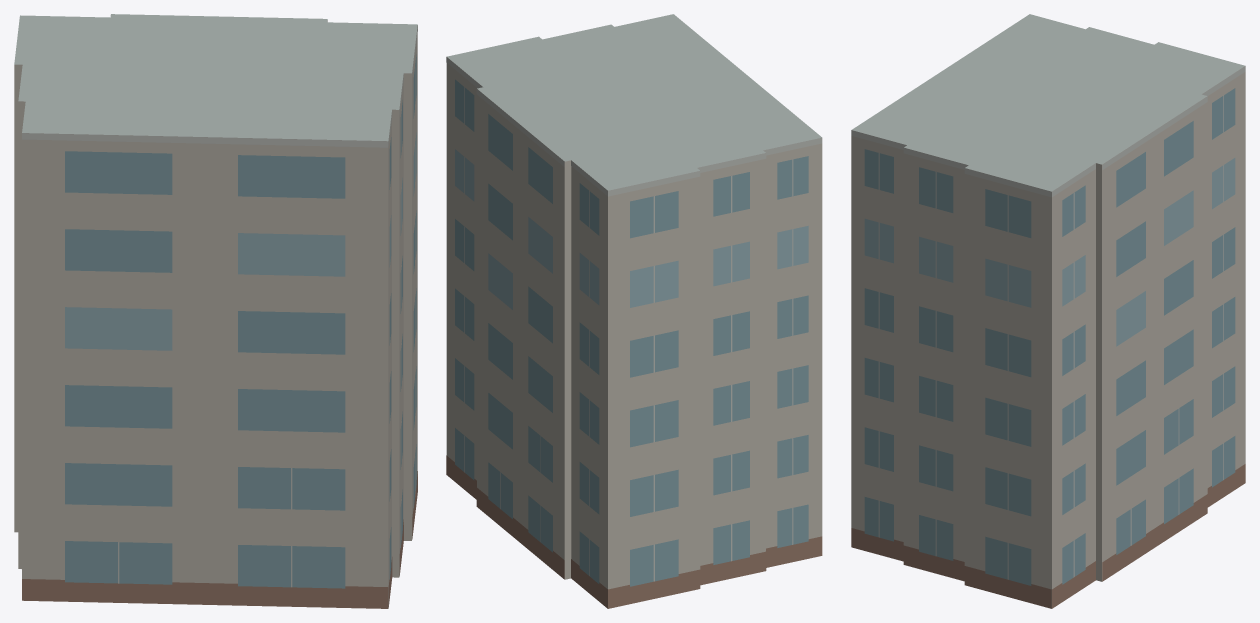
File: survey-upis-32622282.glb
3 views of the same model, side by side, from view 1: azimuth 30°, elevation 25°; view 2: azimuth 150°, elevation 25°; view 3: azimuth 270°, elevation 25° (orthographic). The views are drawn at different scales.
Parts seen in each view (by area): view 1: survey-upis-32622282.tmp; view 2: survey-upis-32622282.tmp; view 3: survey-upis-32622282.tmp.
Part boxes in pixels (box(x1,y1,x2,y2)): survey-upis-32622282.tmp: box(14, 14, 417, 608); survey-upis-32622282.tmp: box(446, 14, 822, 608); survey-upis-32622282.tmp: box(851, 14, 1245, 608).
Size of the model in its own units: 15.99 by 17.5 by 14.99.
